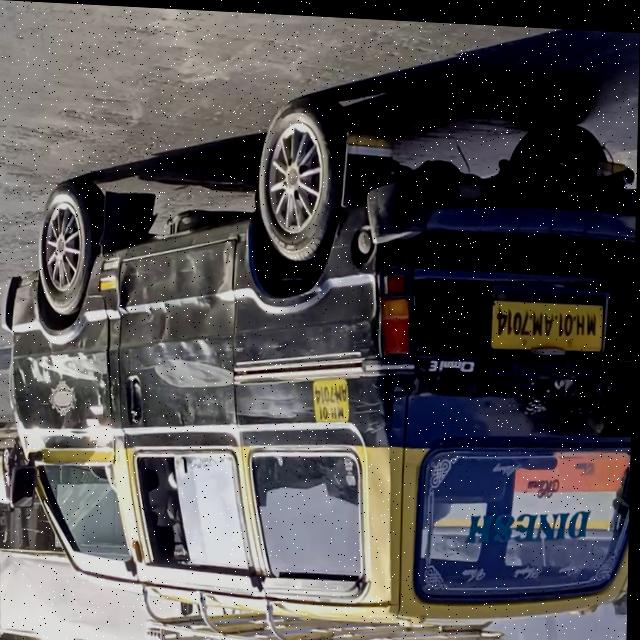plate: (492, 293, 609, 351), (310, 372, 355, 425)
